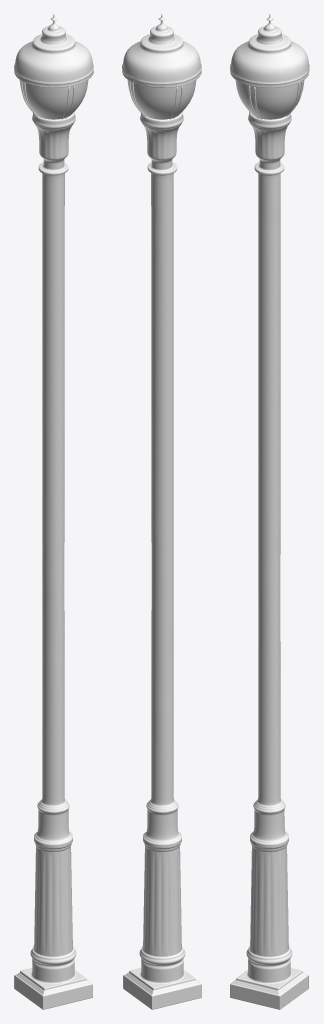
The model's file is City StreetLight 2.obj.
The picture shows the model from 3 angles, left to right: view 1: azimuth 30°, elevation 25°; view 2: azimuth 210°, elevation 25°; view 3: azimuth 330°, elevation 25°; orthographic projection.
Parts seen in each view (by area): view 1: City_Streetlight_2_Cylinder; view 2: City_Streetlight_2_Cylinder; view 3: City_Streetlight_2_Cylinder.
Part boxes in pixels (x1=…): City_Streetlight_2_Cylinder: x1=14, y1=14, x2=93, y2=1009; City_Streetlight_2_Cylinder: x1=122, y1=14, x2=201, y2=1009; City_Streetlight_2_Cylinder: x1=230, y1=14, x2=309, y2=1009.
Size of what is drawn, in the model's own units: 0.815 by 11.05 by 0.815.
Materials: 2 (2 with a texture image).
